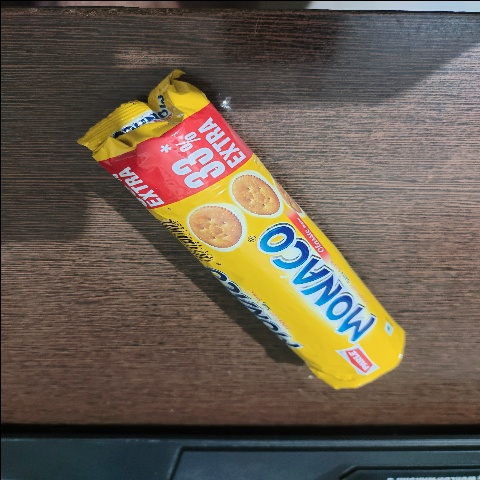monaco: (49, 56, 423, 408)
